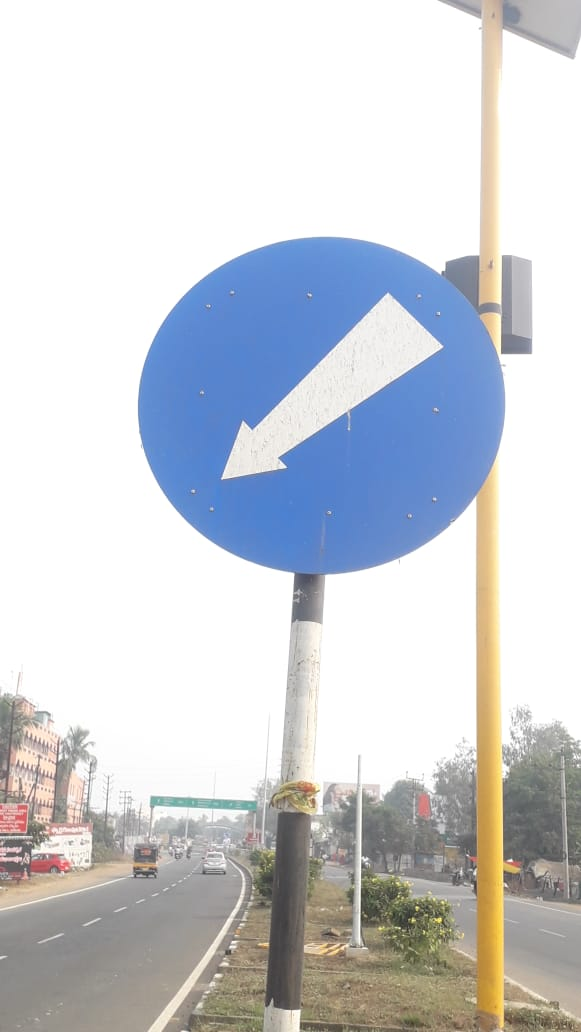go left: (118, 208, 572, 583)
